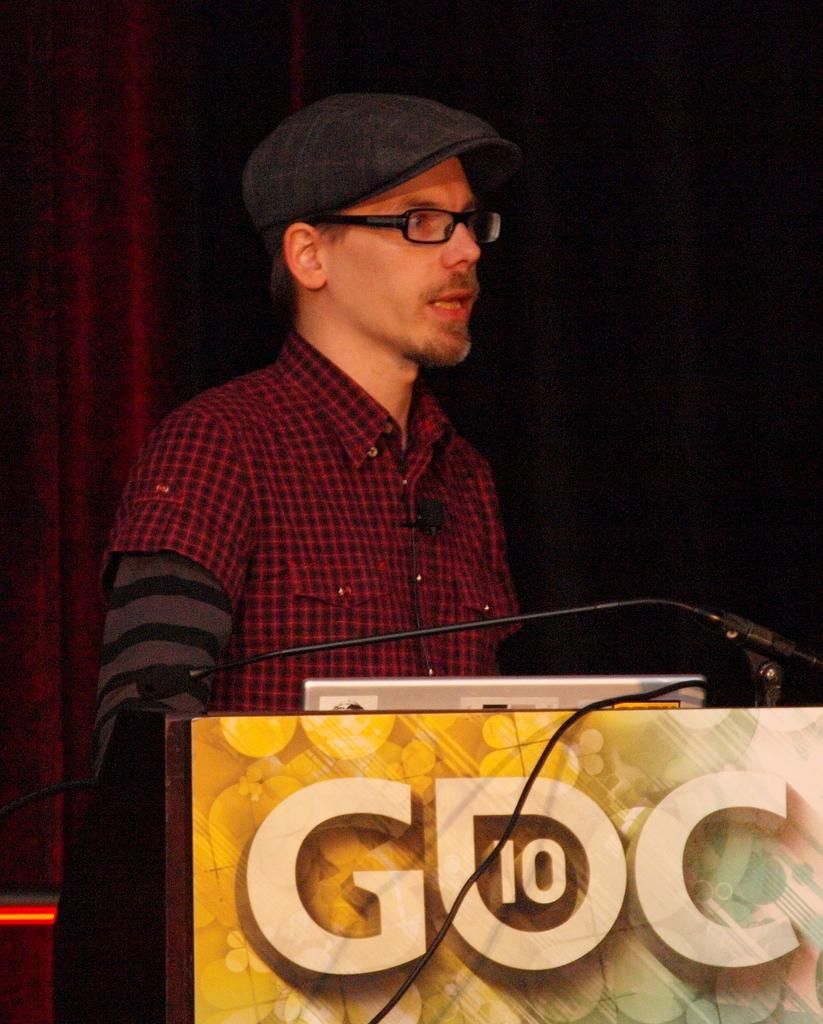Hat: (238, 86, 516, 247)
